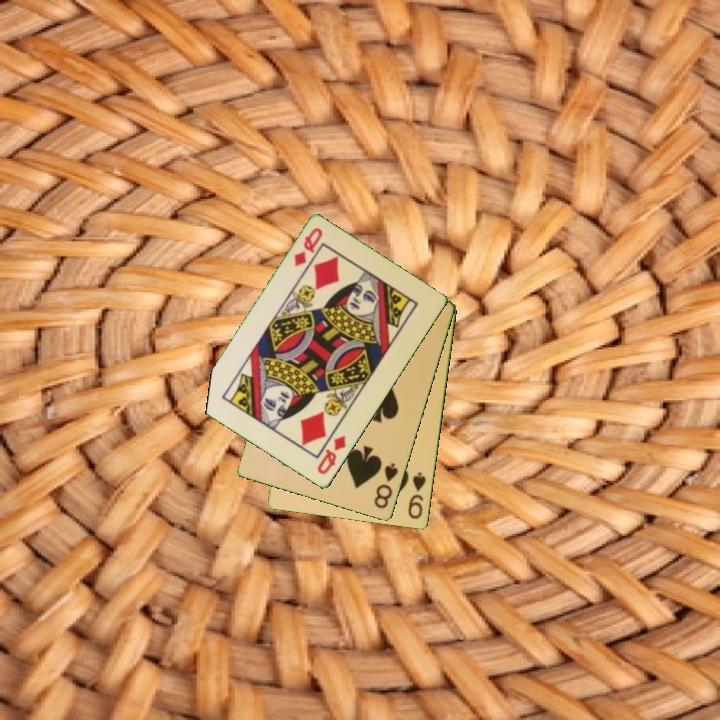8s: (371, 459, 401, 512)
9s: (405, 469, 429, 522)
Qd: (313, 432, 349, 478), (290, 224, 326, 270)
